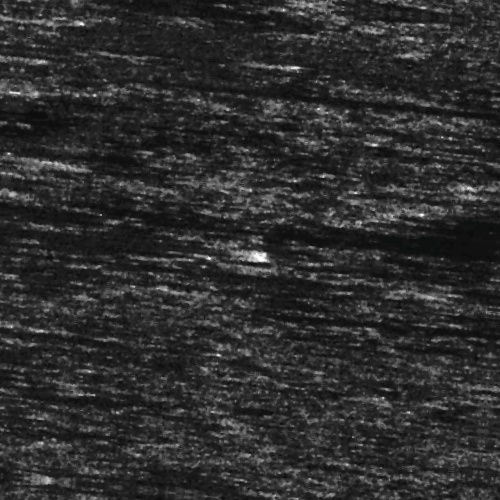object: (0, 174, 98, 187), (248, 481, 341, 492), (220, 58, 293, 63), (382, 273, 435, 278), (220, 252, 261, 255), (128, 0, 169, 1)
shadow: (224, 208, 500, 231), (208, 85, 500, 94), (97, 481, 294, 492), (292, 305, 500, 314), (52, 58, 256, 63), (299, 230, 500, 233), (0, 174, 41, 187), (454, 124, 500, 133), (343, 273, 408, 278), (172, 252, 240, 255), (0, 0, 148, 1)
